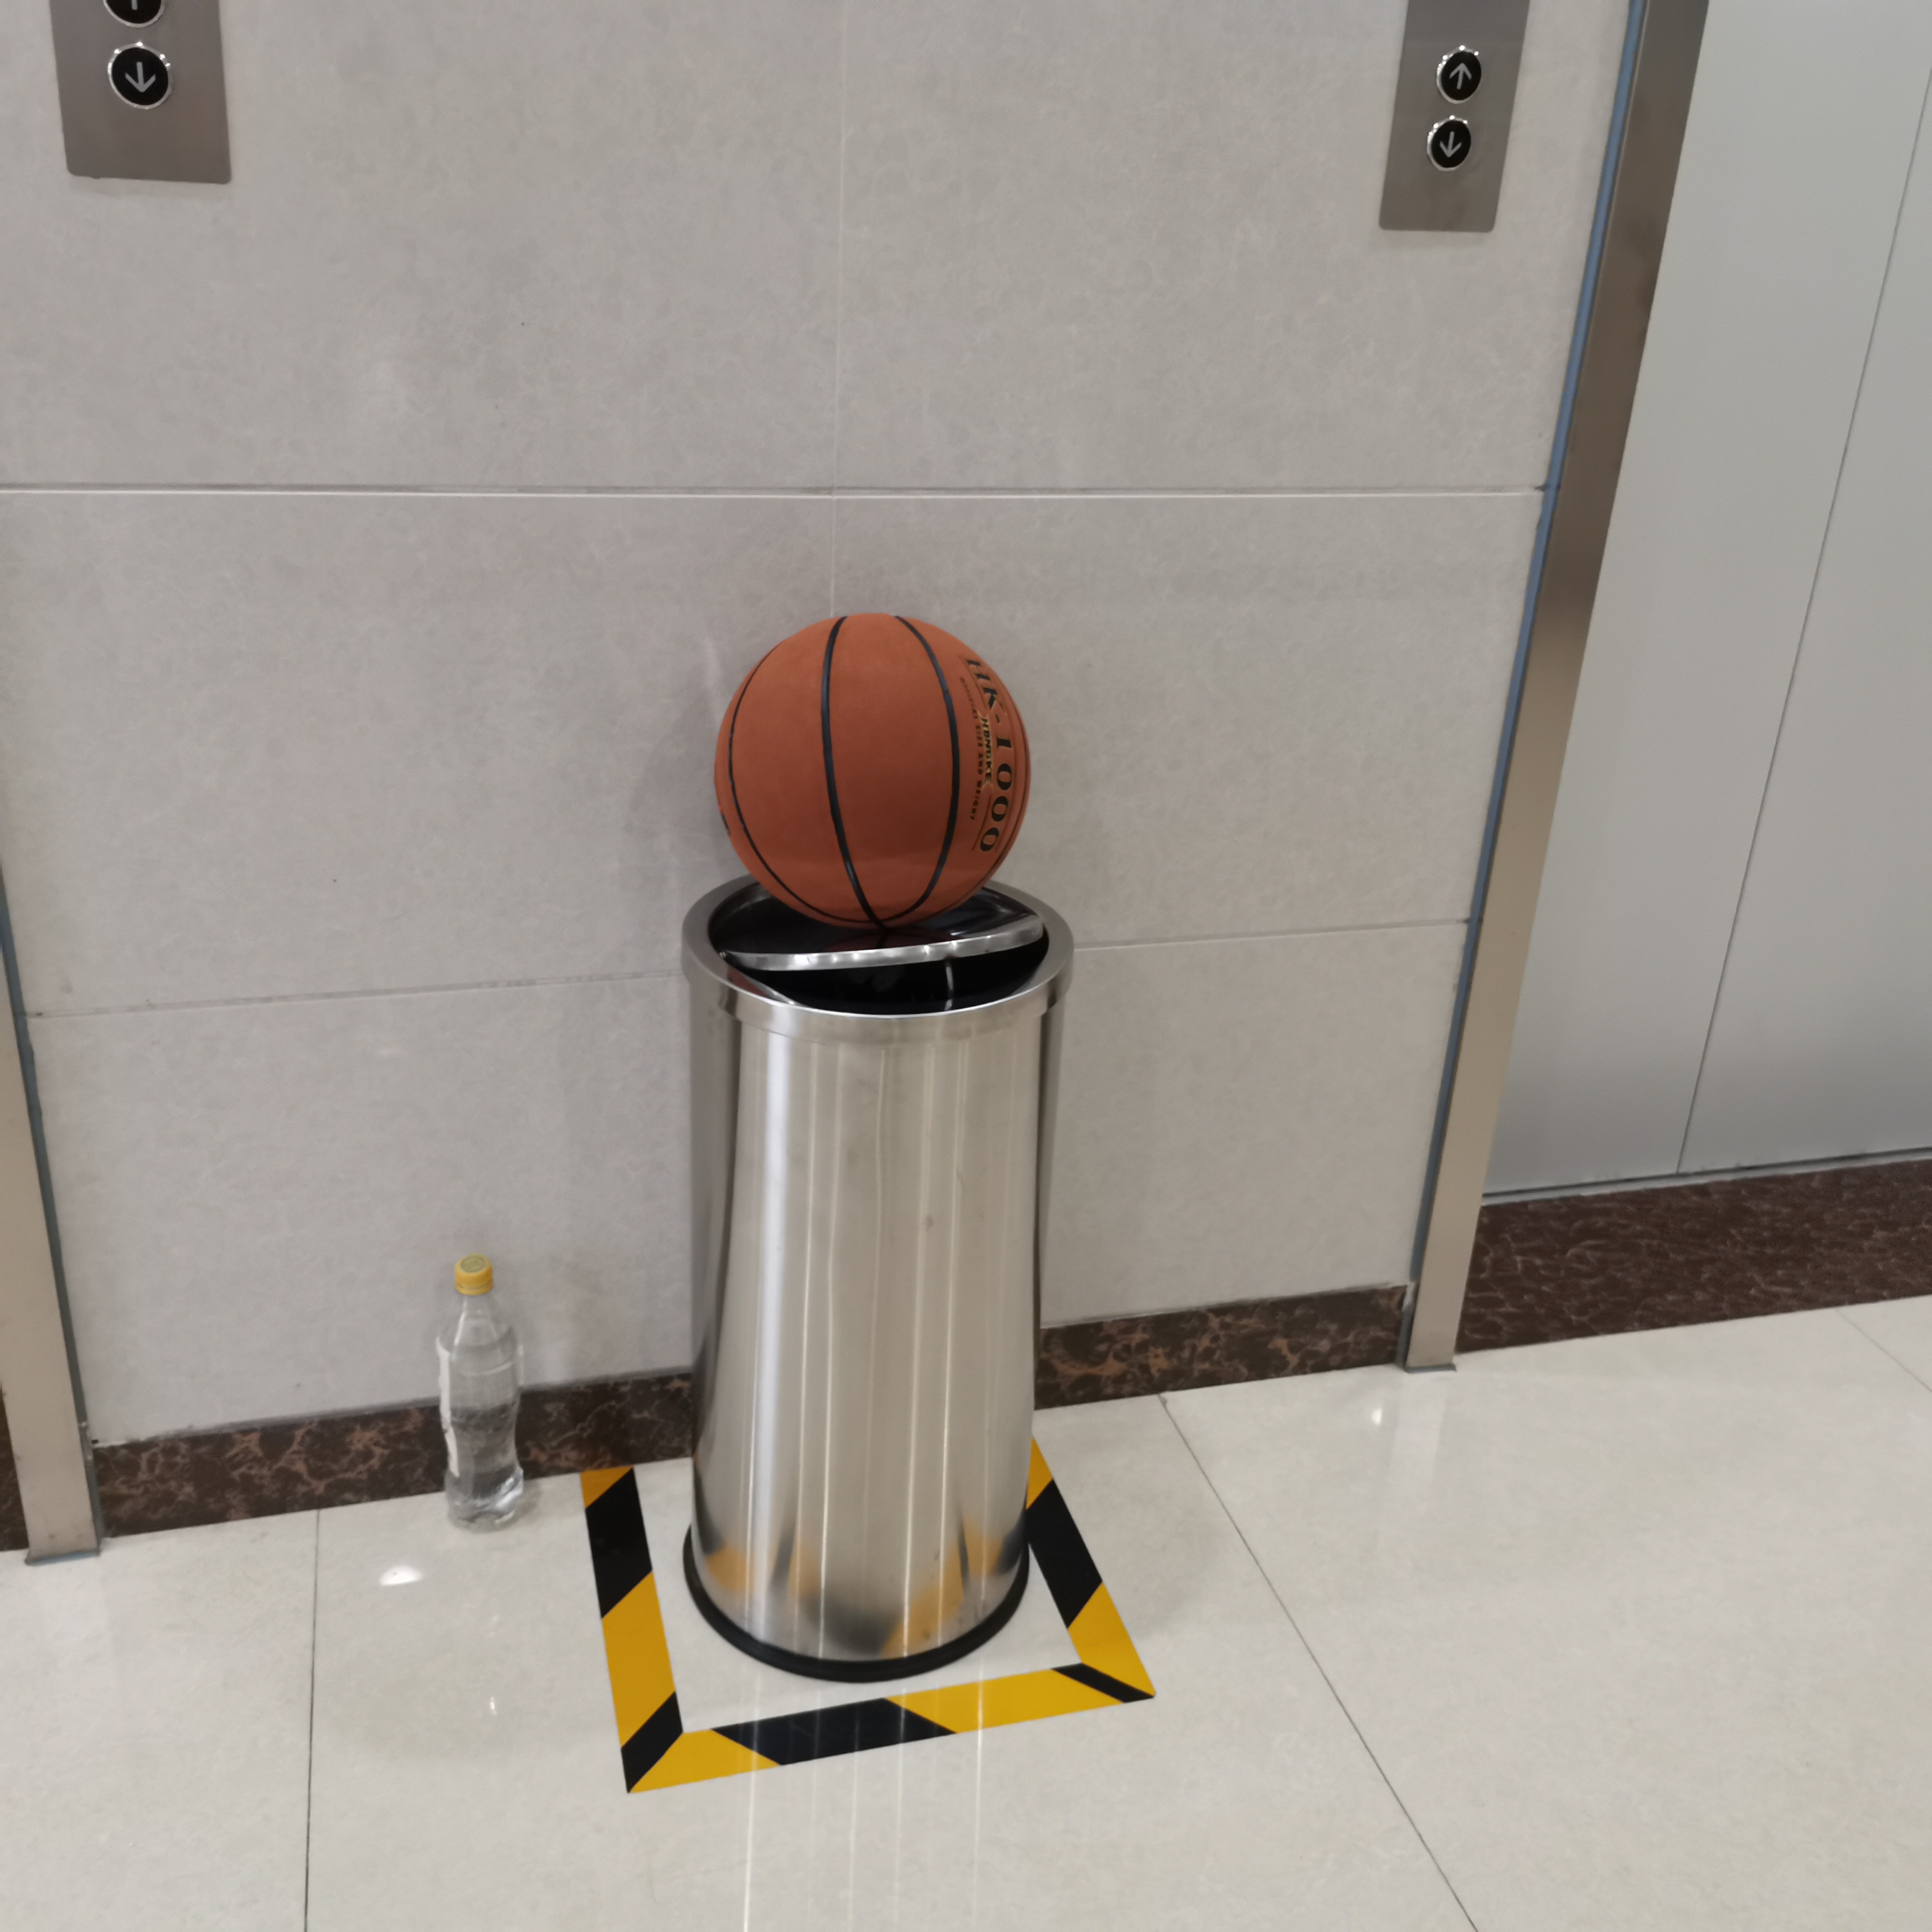basketball: (715, 614, 1033, 929)
